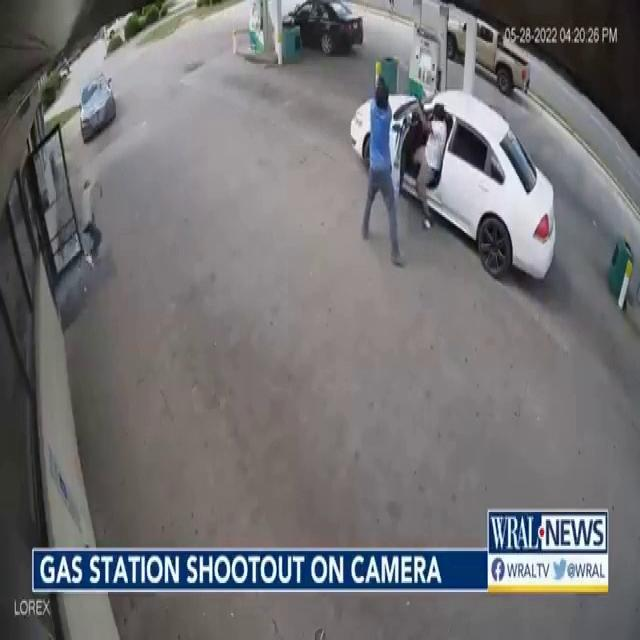normal: (360, 80, 411, 272)
